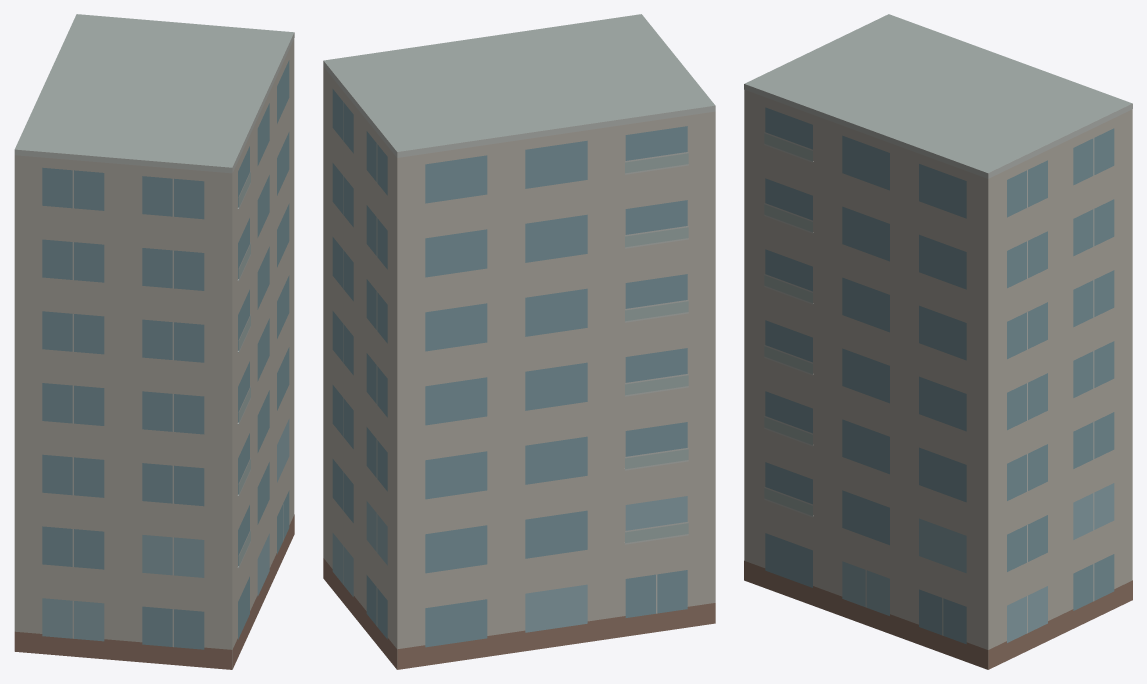
The model's file is survey-upis-32624406.glb.
3 renders of one model, left to right at view 1: azimuth 30°, elevation 25°; view 2: azimuth 150°, elevation 25°; view 3: azimuth 270°, elevation 25°, orthographic. The views are drawn at different scales.
Visible parts, largest first — view 1: survey-upis-32624406.tmp; view 2: survey-upis-32624406.tmp; view 3: survey-upis-32624406.tmp.
Part boxes in pixels (x1=…): survey-upis-32624406.tmp: x1=14, y1=14, x2=294, y2=669; survey-upis-32624406.tmp: x1=323, y1=14, x2=715, y2=669; survey-upis-32624406.tmp: x1=744, y1=14, x2=1132, y2=669.
Bounding box in the file's own units: 14.69 × 21.35 × 15.15.
